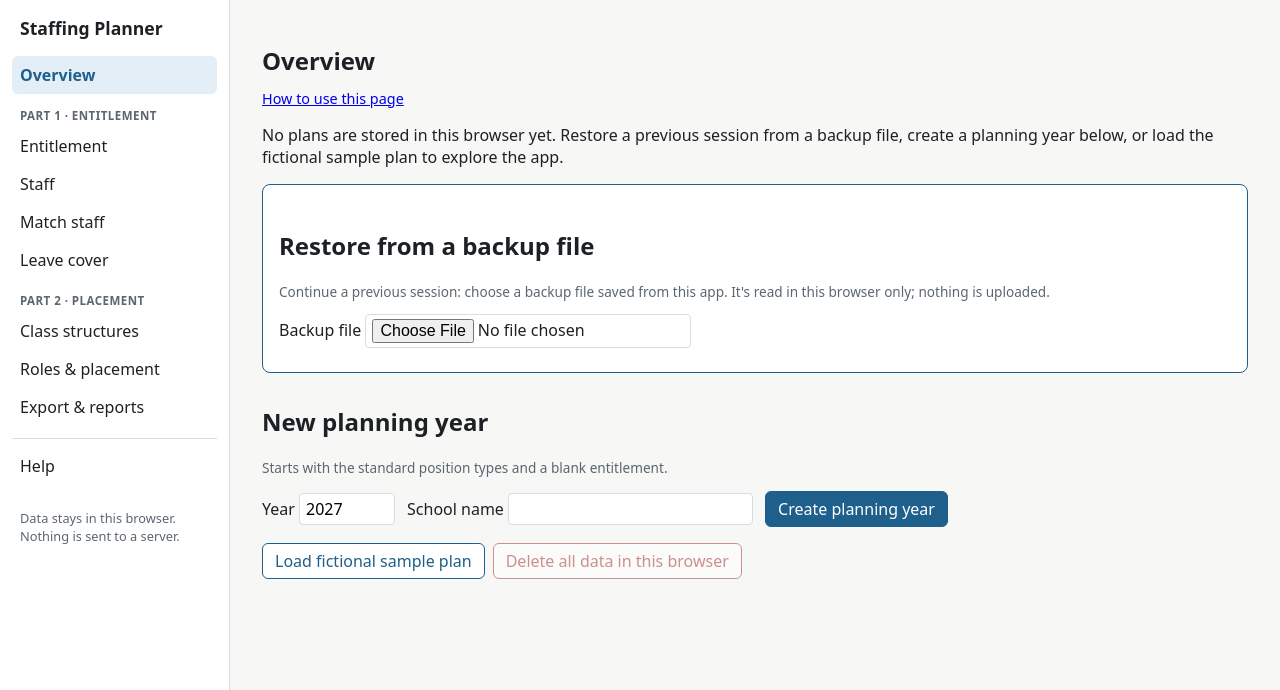
Test: Class structures › offers suggestions for the sample enrolments
Click the button "Load fictional sample plan" at (373, 561), box x1=262 y1=543 x2=485 y2=579
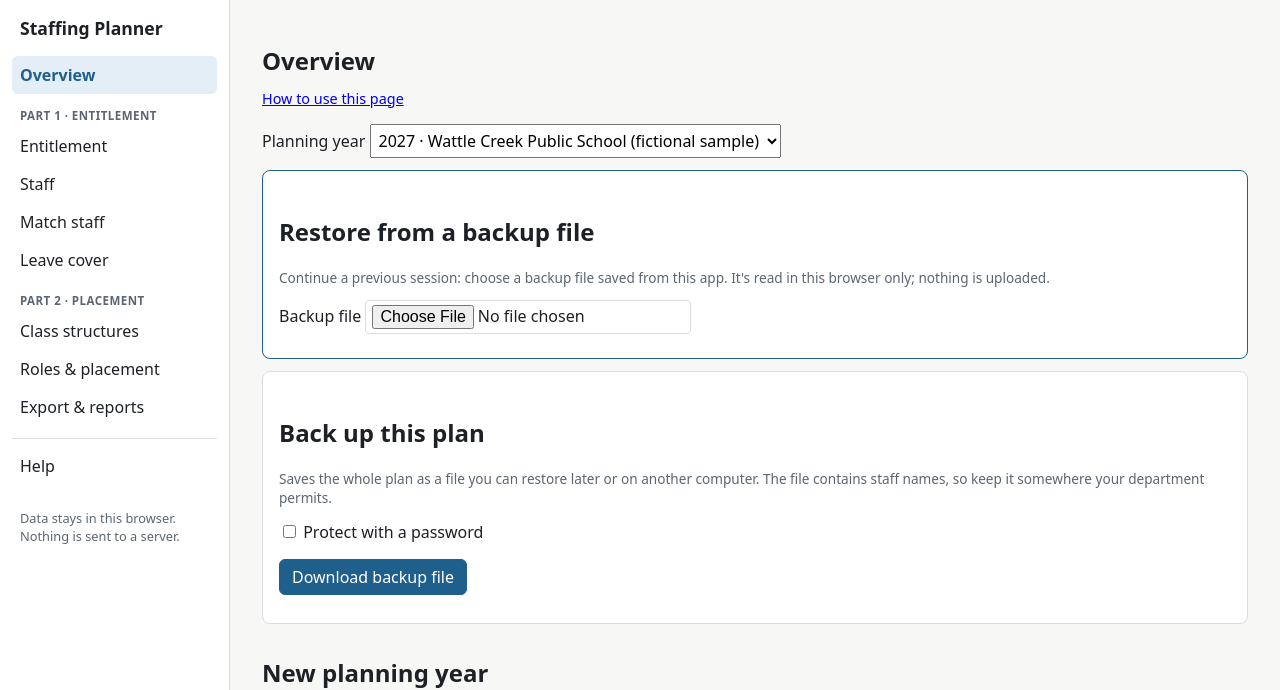
Click the link "Class structures" at (80, 331), box x1=20 y1=320 x2=139 y2=342
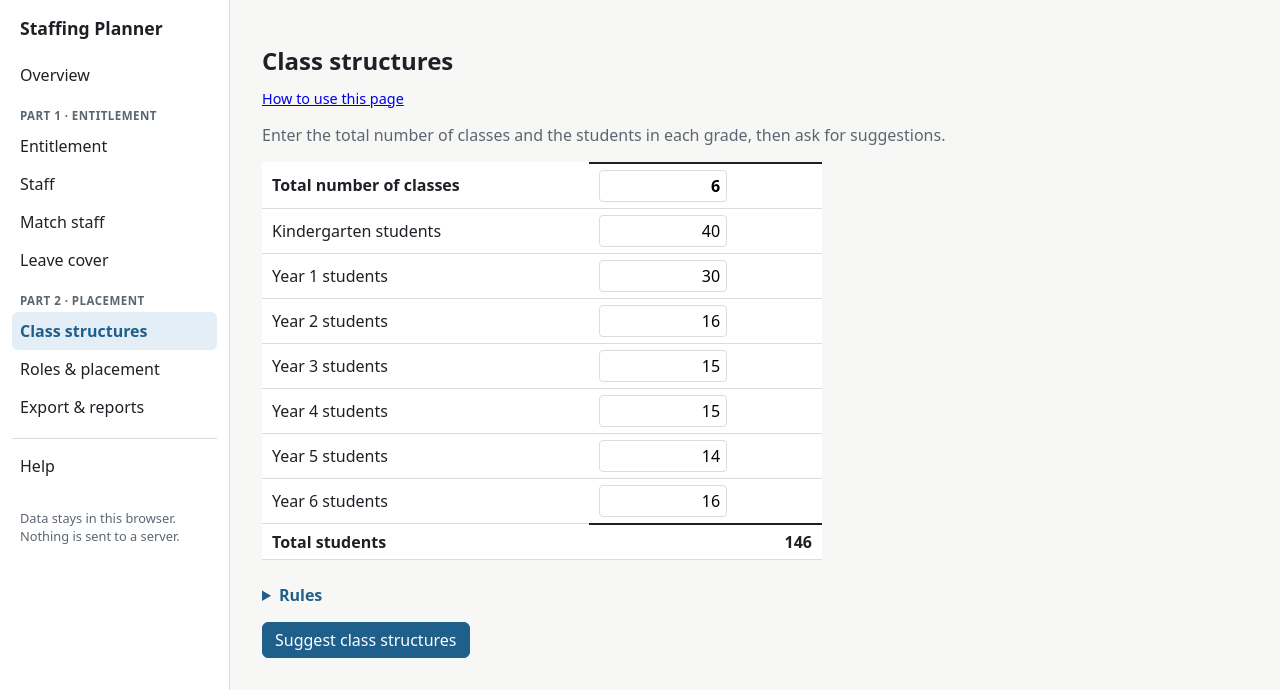
Now the field labelled "Total number of classes" holds "6", box x1=599 y1=170 x2=727 y2=202
Click the button "Suggest class structures" at (366, 640), box x1=262 y1=622 x2=470 y2=658
(page scrolled)
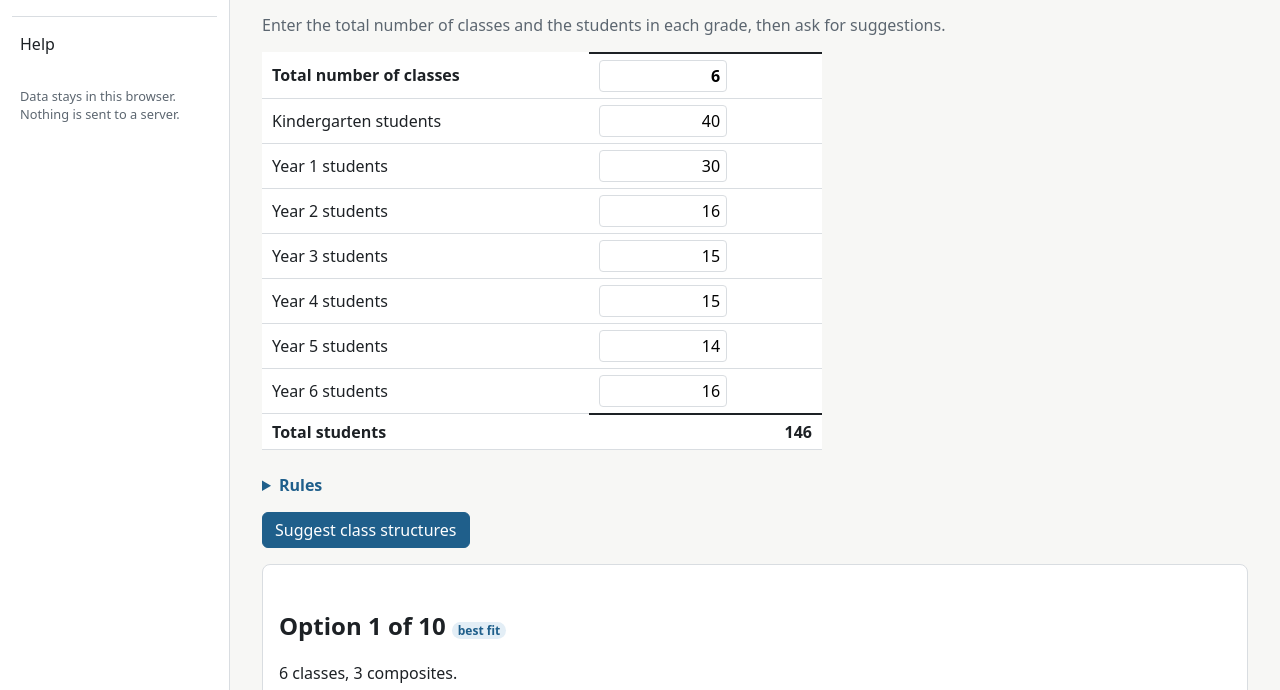
Now the text "6 classes, 3 composites." is shown, box x1=279 y1=662 x2=457 y2=684
